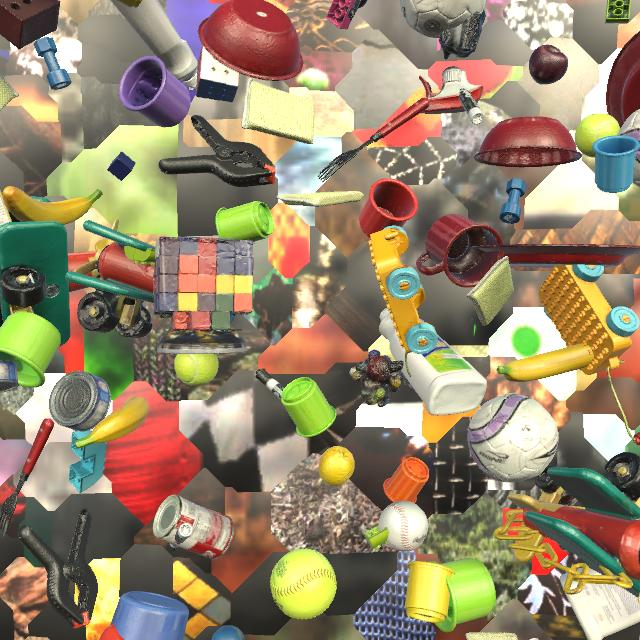ycb_004_sugar_box: (0, 190, 34, 283)
ycb_005_tomato_soup_can: (153, 494, 234, 560)
ycb_007_tuna_fish_can: (49, 371, 111, 432), (0, 360, 19, 393)
ycb_011_banana: (497, 339, 633, 382), (2, 186, 103, 225), (75, 397, 149, 449)
ycb_014_lemon: (319, 446, 355, 486)
ycb_018_plum: (529, 45, 568, 85)
